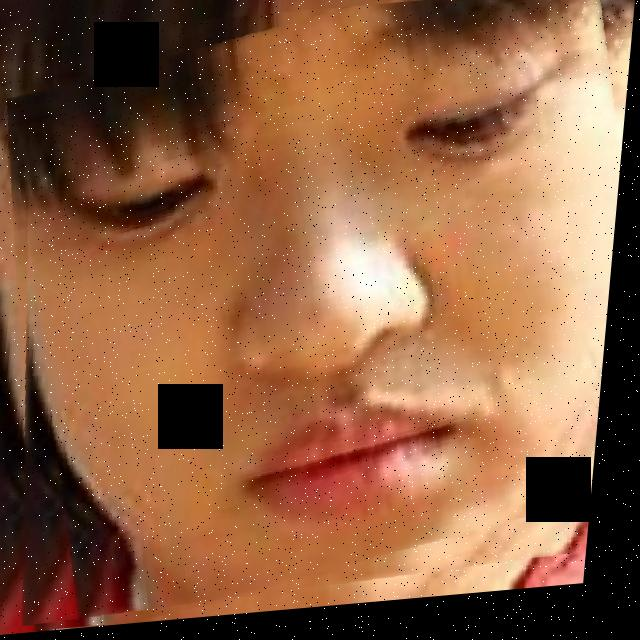anger: (0, 0, 637, 631)
